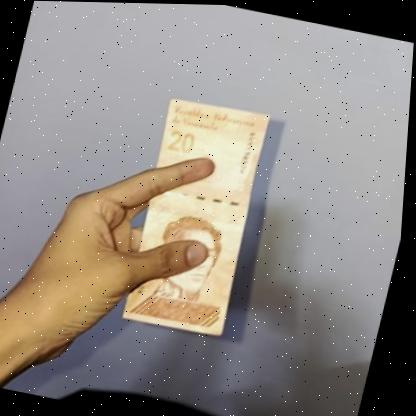vef_front: (120, 94, 278, 338)
